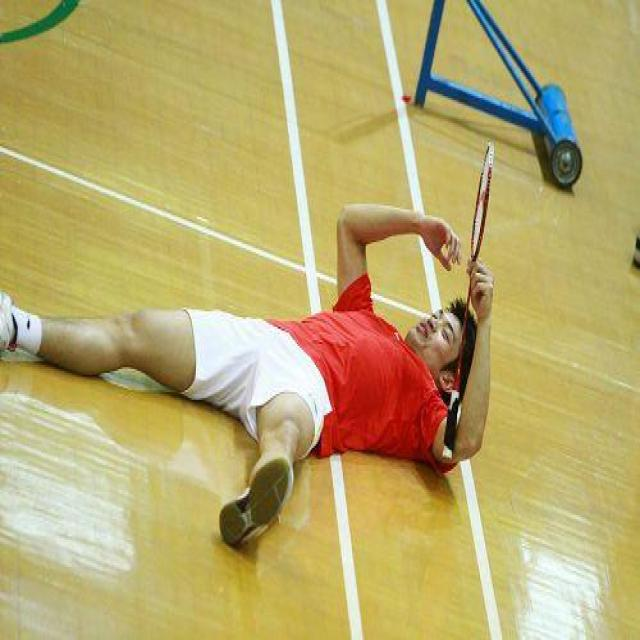fall: (30, 215, 485, 530)
